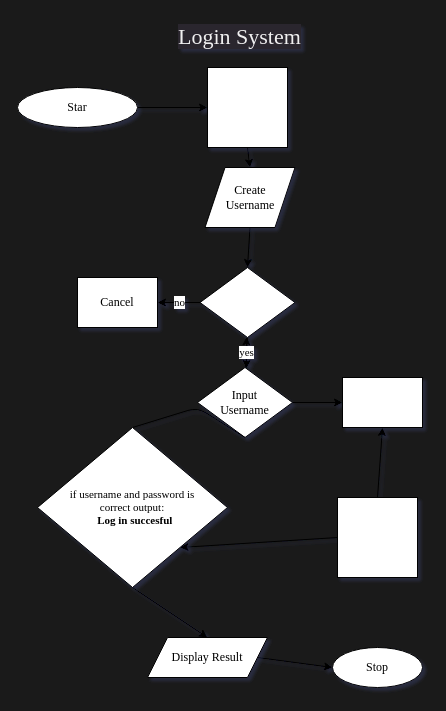
Some shapes in this 446 by 711 pixel diagram are drawn without their labels. Each missing label, with the box of its shape:
if username and password is incorrect. output: Error: (336, 496, 418, 578)
Input Password: (342, 376, 422, 428)
Set Password: (199, 266, 295, 338)
User Information: (206, 66, 288, 148)
